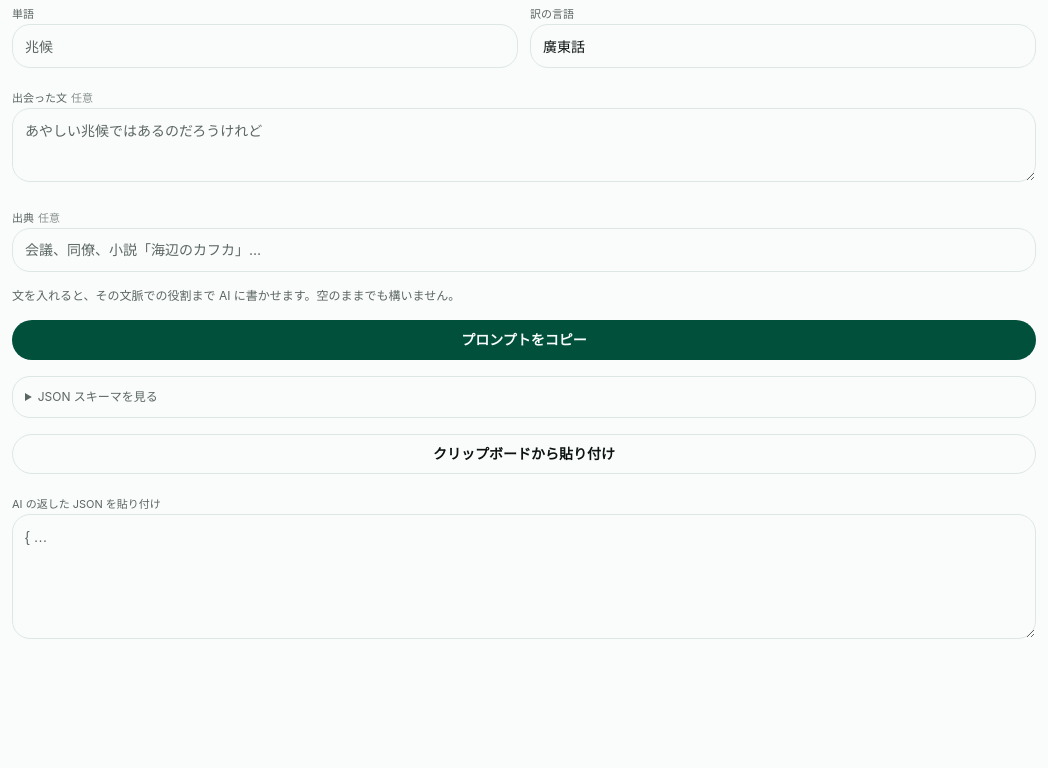
JsonImport — edits made while a request is in flight › does not let a slow clipboard read revert what was typed after it started
This screenshot has width=1048, height=768.
Click the button "クリップボードから貼り付け". click: (524, 454)
box: [12,434,1036,474]
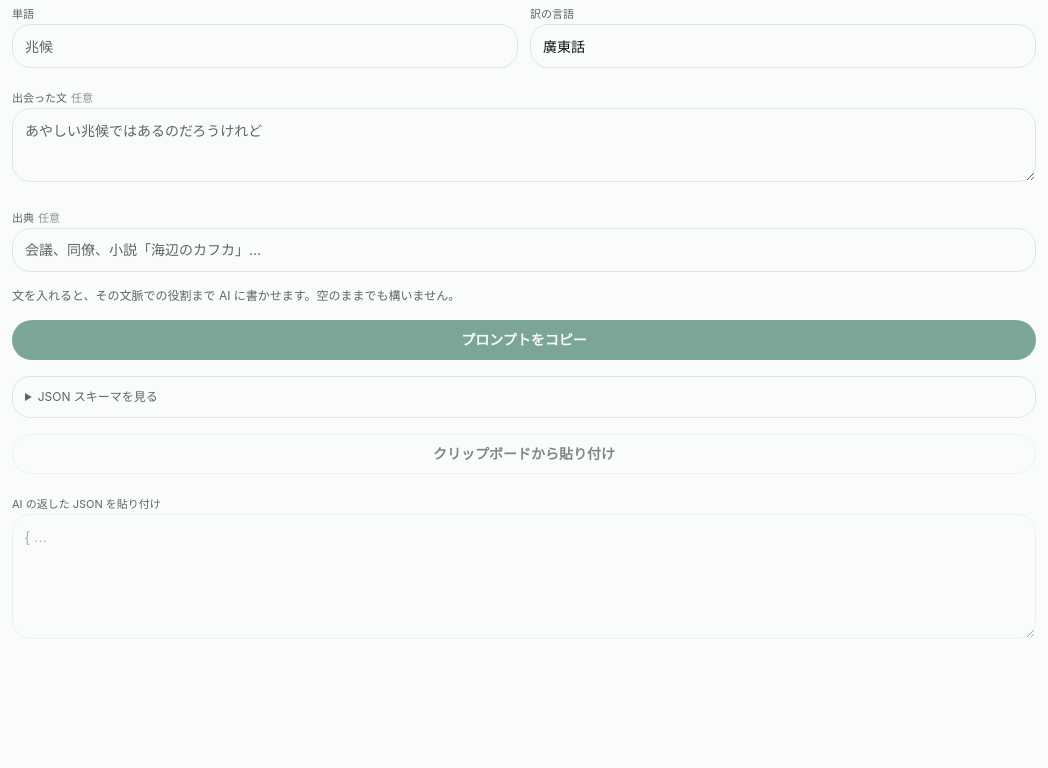
Type "古い" into the field labelled "単語". click: (265, 46)
box: [12,24,518,68]
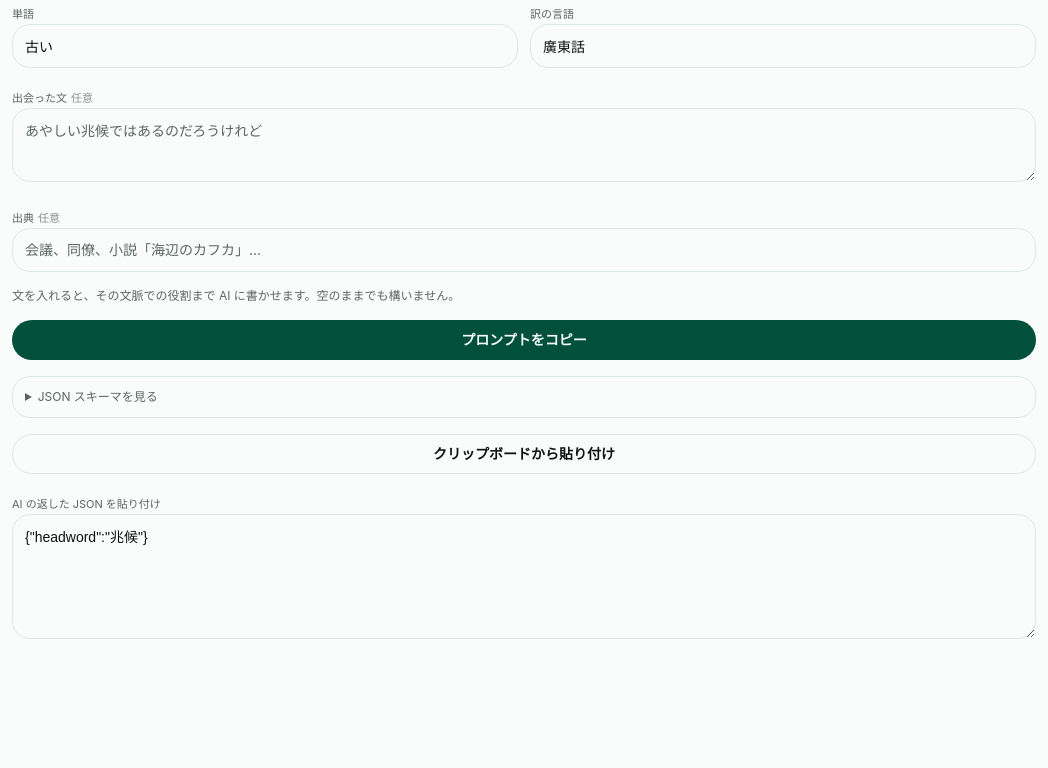
Check: the text box labelled "AI の返した JSON を貼り付け" holds "{\"headword\":\"兆候\"}", box [12,514,1036,639]
